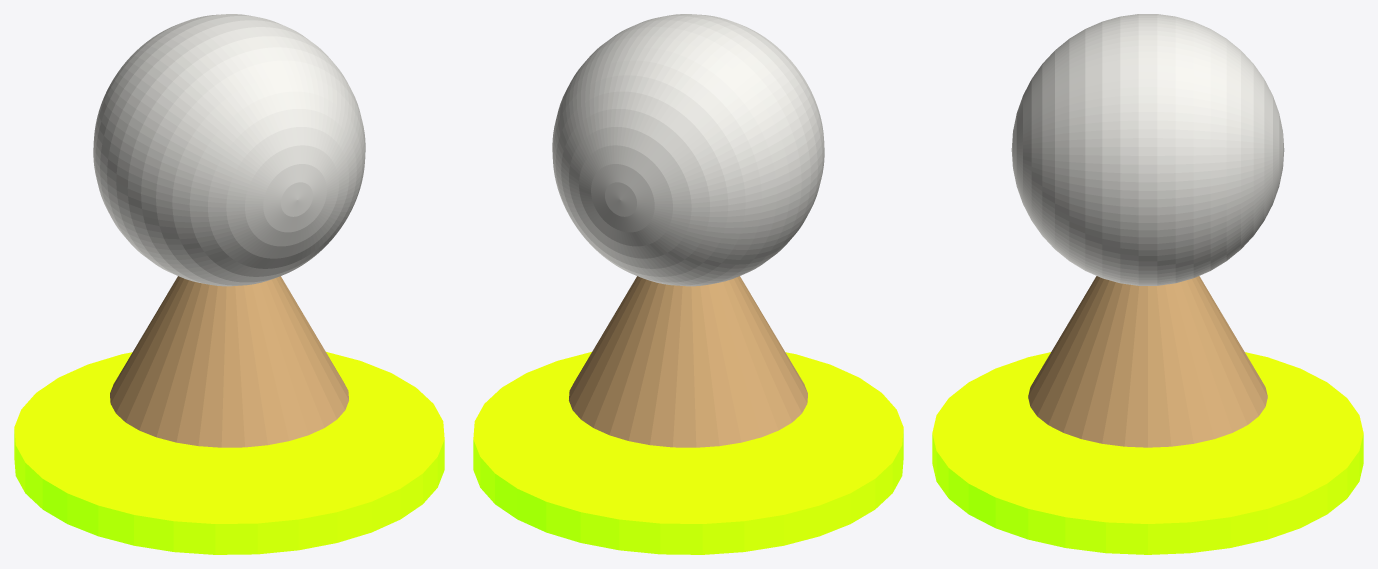
File: food_ice_cream_cone.glb
3 renders of one model, left to right at view 1: azimuth 30°, elevation 25°; view 2: azimuth 150°, elevation 25°; view 3: azimuth 270°, elevation 25°, orthographic.
Parts seen in each view (by area): view 1: 01_09_Popular_Food_Ice_Cream_Cone_part_02, 01_09_Popular_Food_Ice_Cream_Cone_ROOT_base, 01_09_Popular_Food_Ice_Cream_Cone_part_01; view 2: 01_09_Popular_Food_Ice_Cream_Cone_part_02, 01_09_Popular_Food_Ice_Cream_Cone_ROOT_base, 01_09_Popular_Food_Ice_Cream_Cone_part_01; view 3: 01_09_Popular_Food_Ice_Cream_Cone_part_02, 01_09_Popular_Food_Ice_Cream_Cone_ROOT_base, 01_09_Popular_Food_Ice_Cream_Cone_part_01.
Boxes of the visible parts, left/top/right/bottom form: 01_09_Popular_Food_Ice_Cream_Cone_part_02: left=93, top=14, right=365, bottom=286; 01_09_Popular_Food_Ice_Cream_Cone_ROOT_base: left=14, top=352, right=444, bottom=554; 01_09_Popular_Food_Ice_Cream_Cone_part_01: left=110, top=276, right=348, bottom=447; 01_09_Popular_Food_Ice_Cream_Cone_part_02: left=552, top=14, right=824, bottom=286; 01_09_Popular_Food_Ice_Cream_Cone_ROOT_base: left=473, top=352, right=903, bottom=554; 01_09_Popular_Food_Ice_Cream_Cone_part_01: left=569, top=276, right=807, bottom=447; 01_09_Popular_Food_Ice_Cream_Cone_part_02: left=1011, top=14, right=1284, bottom=285; 01_09_Popular_Food_Ice_Cream_Cone_ROOT_base: left=932, top=352, right=1363, bottom=554; 01_09_Popular_Food_Ice_Cream_Cone_part_01: left=1028, top=276, right=1267, bottom=447.
Size of the model in its own units: 0.76 by 0.85 by 0.76.
